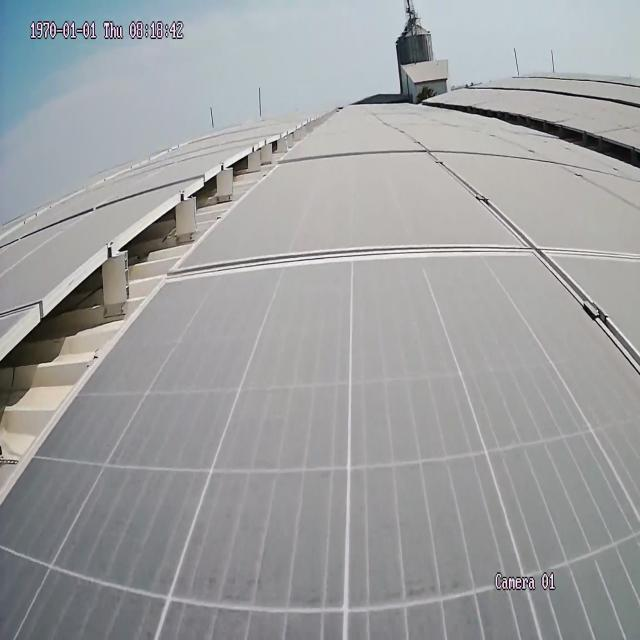interior panel: (187, 157, 640, 381)
outher panel: (3, 110, 332, 499), (454, 105, 640, 167)
